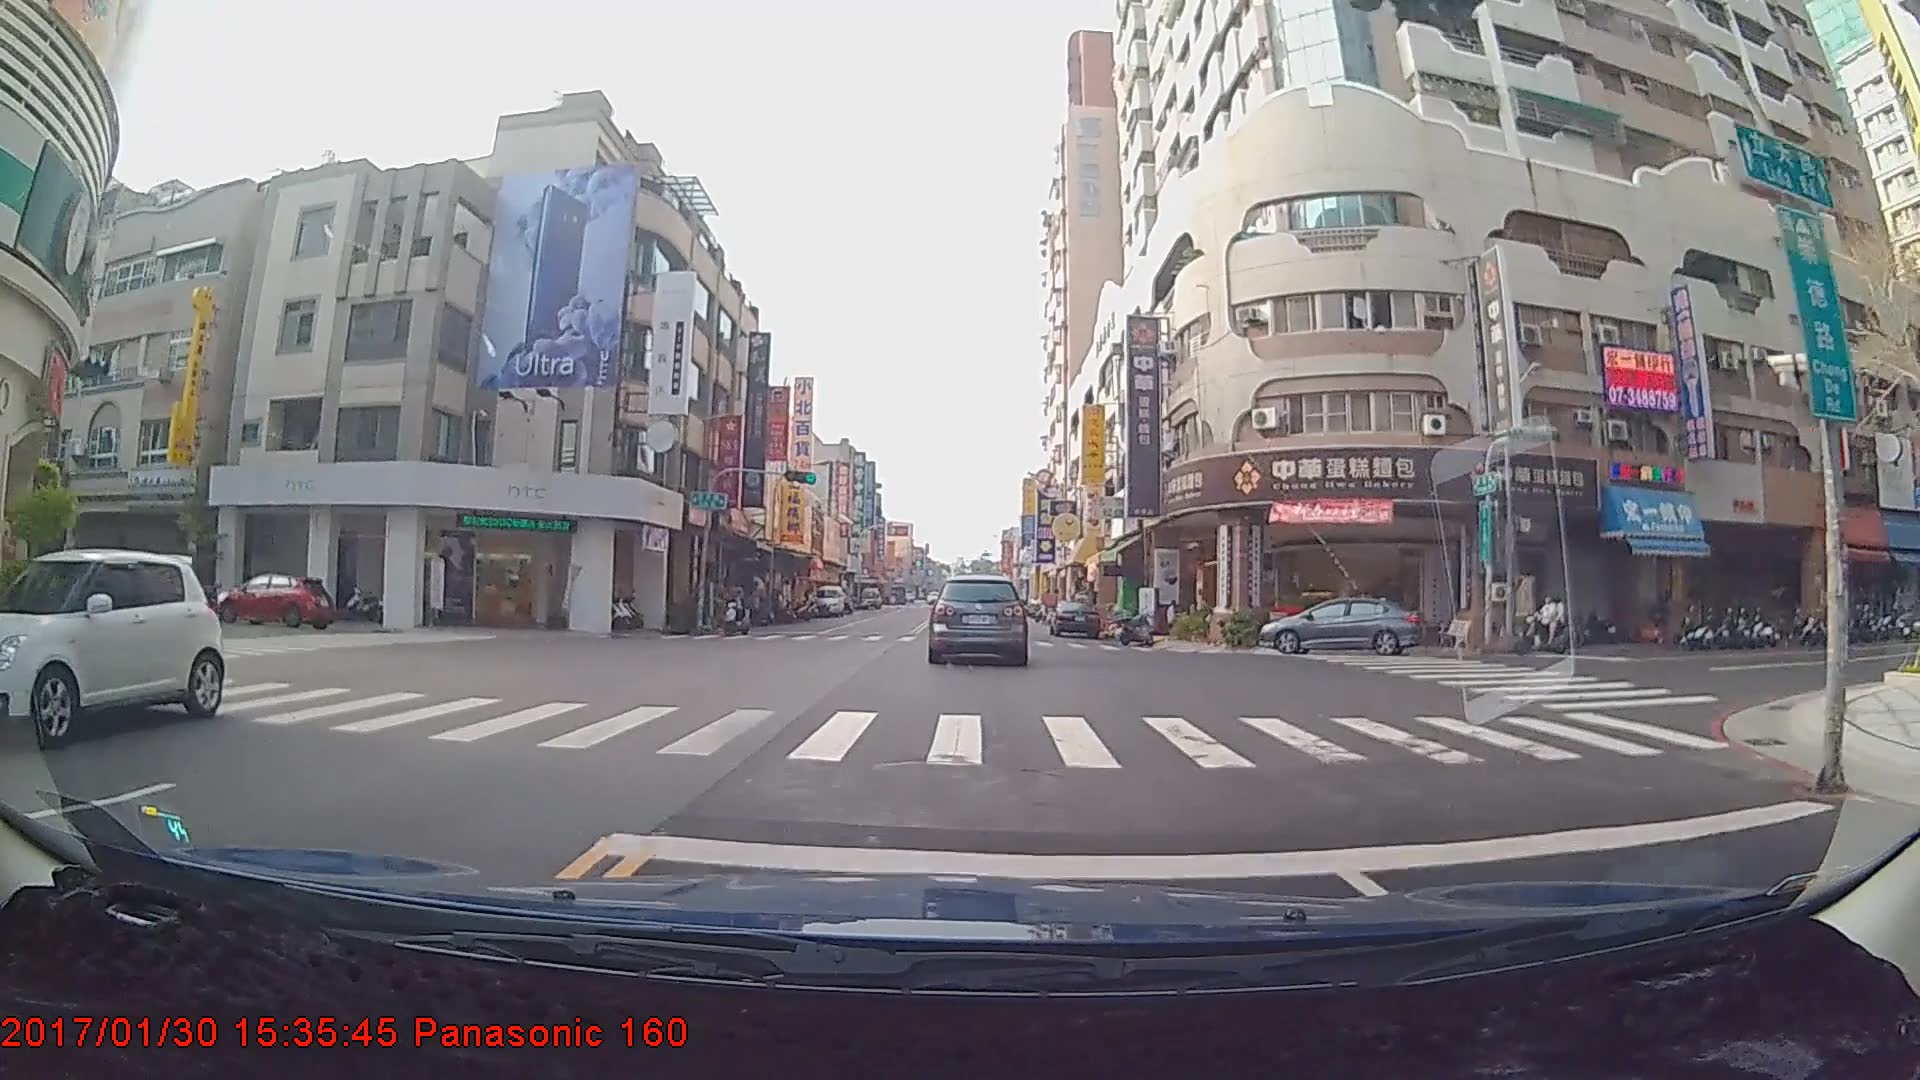rider: (1518, 590, 1578, 649), (717, 577, 753, 636)
vehicle: (0, 546, 224, 751), (1257, 592, 1419, 651), (930, 575, 1025, 665), (217, 572, 335, 629), (1048, 597, 1100, 637), (809, 584, 844, 617)
